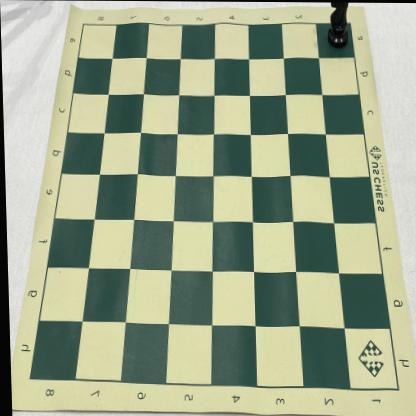black-knight: (324, 2, 351, 49)
